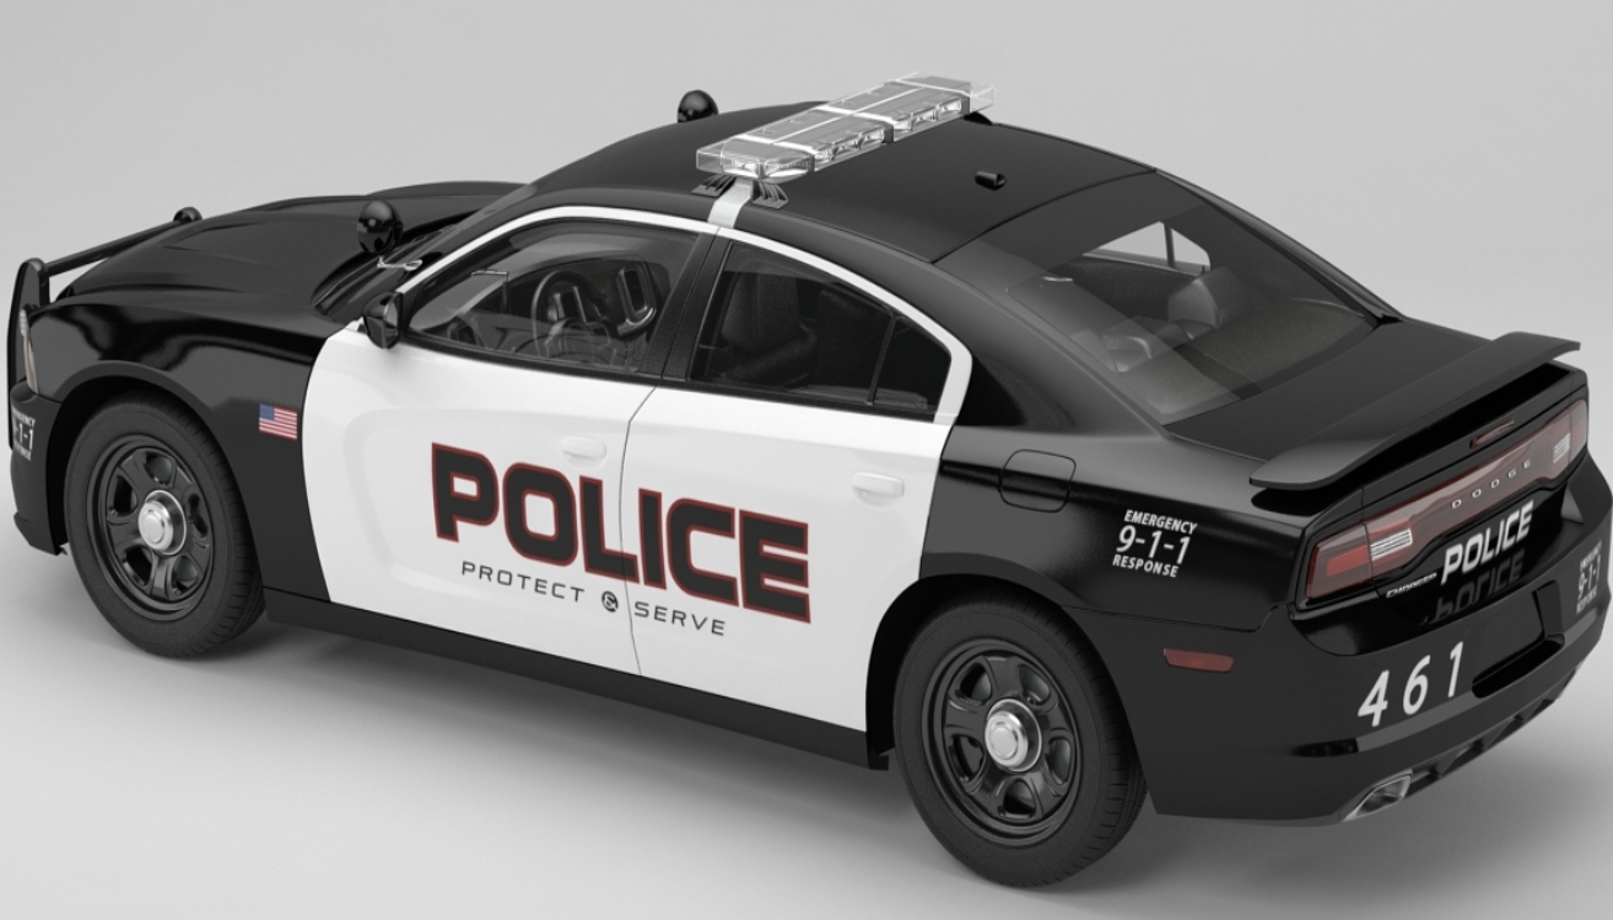hatch: (995, 443, 1081, 524)
